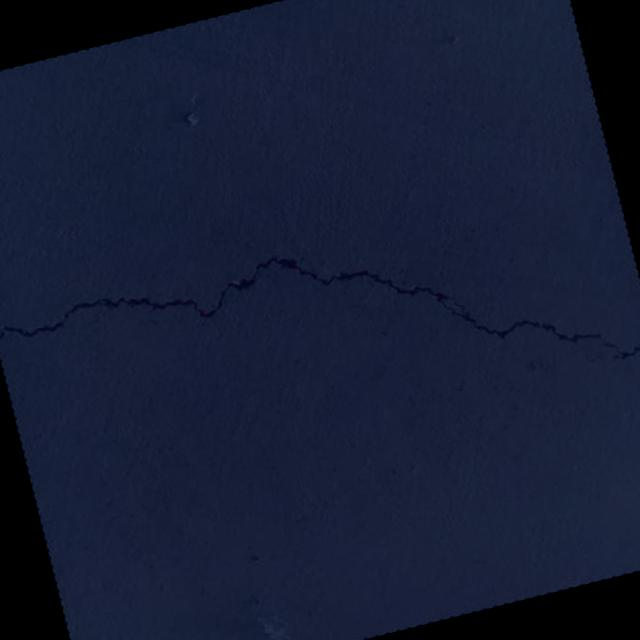crack: (0, 169, 640, 506)
